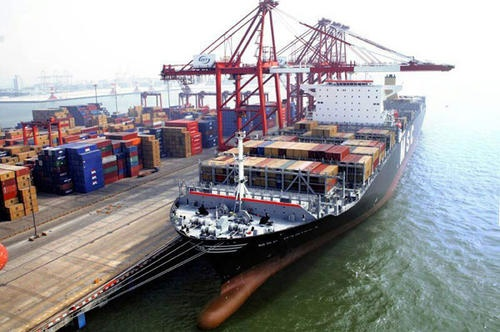Cargoship: (164, 72, 426, 271)
